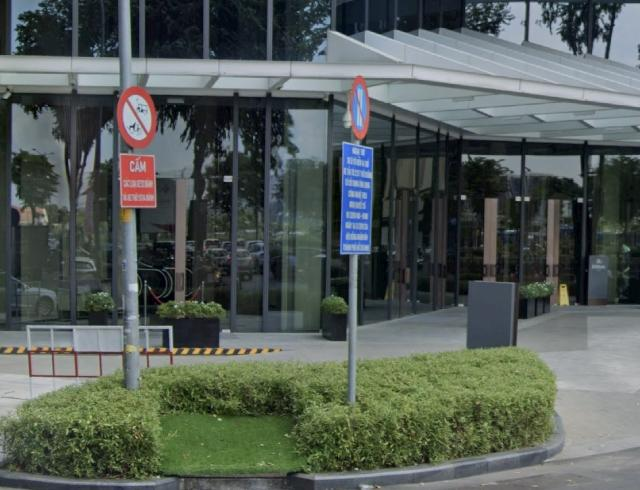131c-cam-do-xe-ngay-chan: (349, 76, 371, 140)
